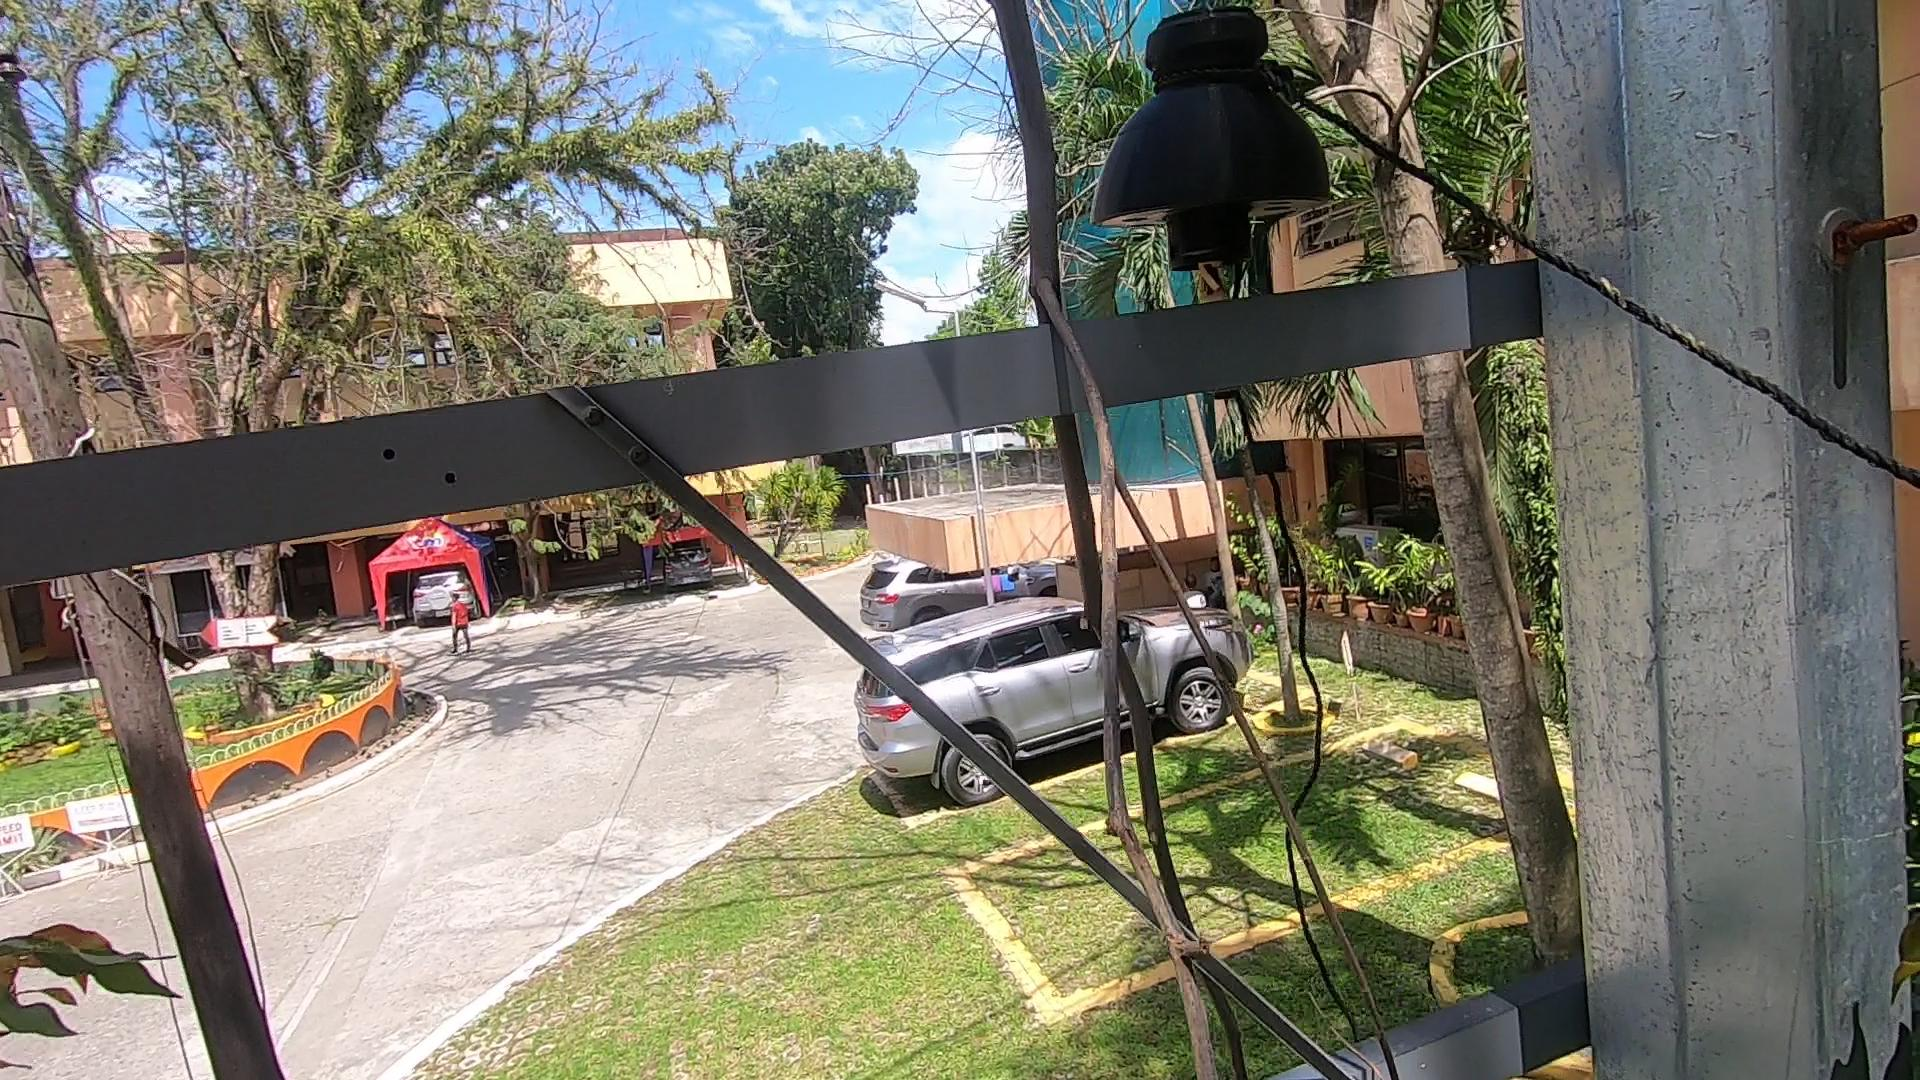tree branch: (891, 5, 1305, 1073)
